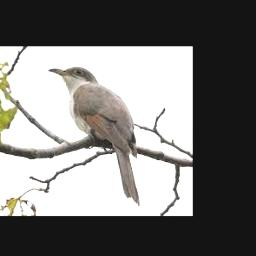Cuckoo: (48, 66, 140, 206)
